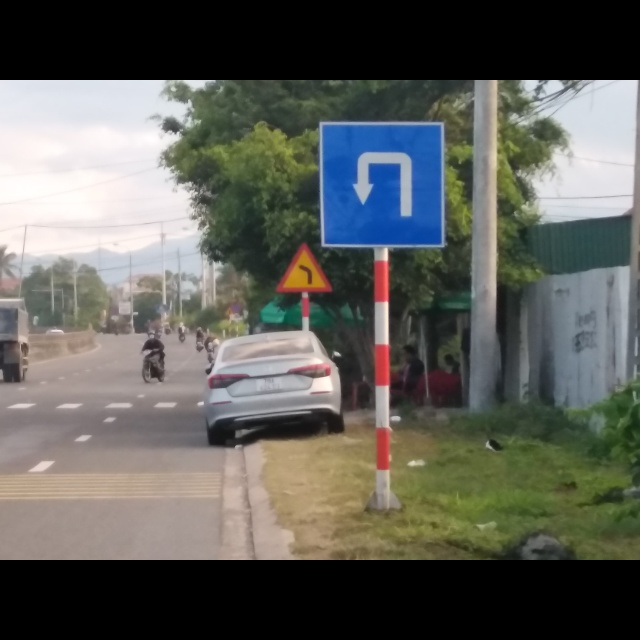Khu vực quay đầu xe: (318, 118, 446, 251)
